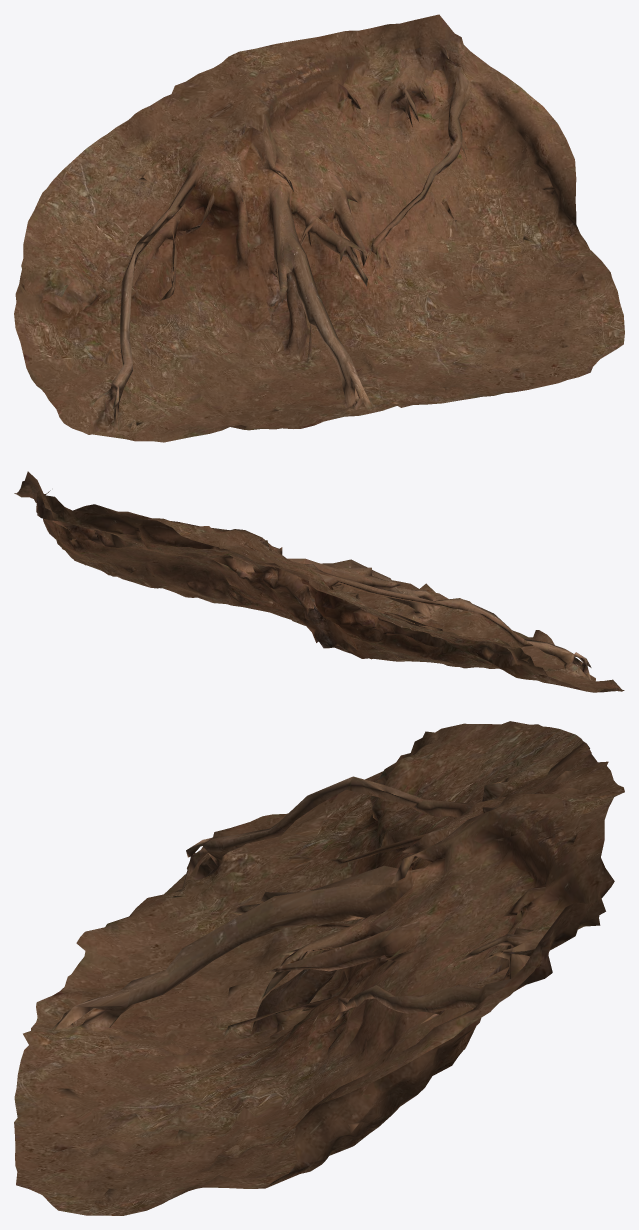
File: root_cluster_01.glb
3 views of the same model, one above another, from view 1: azimuth 30°, elevation 25°; view 2: azimuth 150°, elevation 25°; view 3: azimuth 270°, elevation 25° (orthographic). The views are drawn at different scales.
Visible parts, largest first — view 1: root_cluster_01; view 2: root_cluster_01; view 3: root_cluster_01.
Part boxes in pixels (x1,y1,x2,y2): root_cluster_01: (14, 14, 624, 442); root_cluster_01: (14, 471, 624, 692); root_cluster_01: (14, 721, 624, 1215).
Bounding box in the file's own units: 4.12 × 1.5 × 2.68.
Materials: 1 (1 with a texture image).
